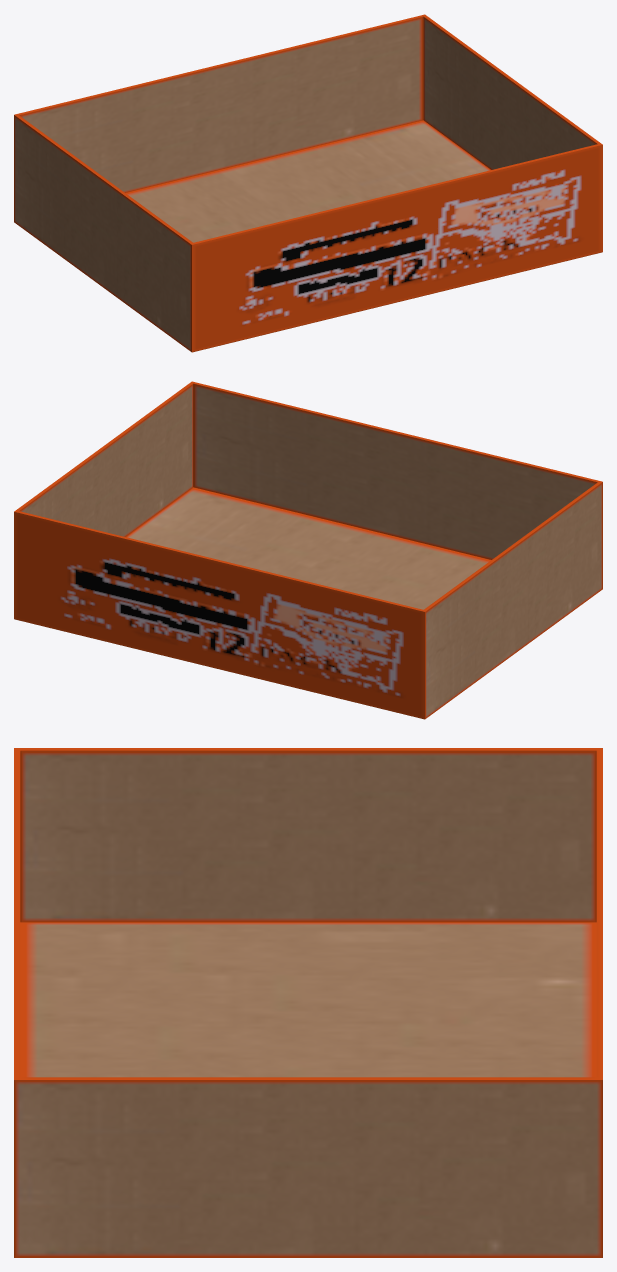
Rendered from RamenFlatEmpty.fbx.
3 views of the same model, one above another, from view 1: azimuth 30°, elevation 25°; view 2: azimuth 150°, elevation 25°; view 3: azimuth 270°, elevation 25° (orthographic). The views are drawn at different scales.
Visible parts, largest first — view 1: Cube; view 2: Cube; view 3: Cube.
Part boxes in pixels (bbox=[...]): Cube: bbox=[14, 14, 602, 352]; Cube: bbox=[14, 381, 602, 719]; Cube: bbox=[14, 748, 602, 1257].
Bounding box in the file's own units: 400 × 100 × 300.
